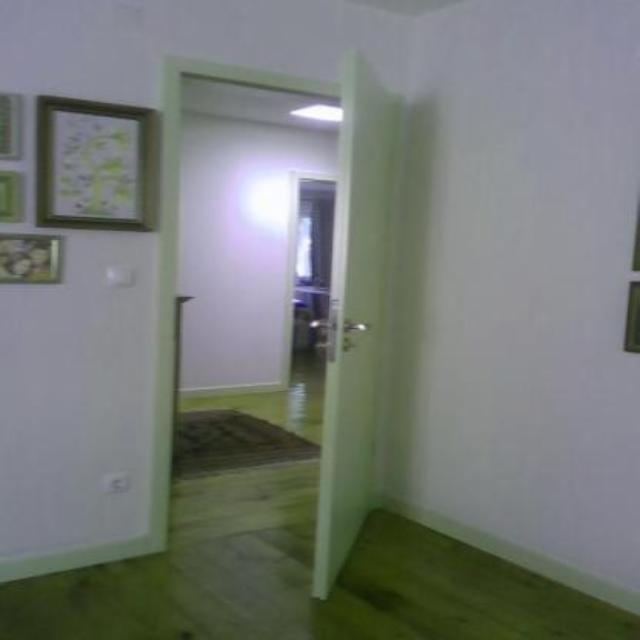door: (301, 39, 411, 610)
